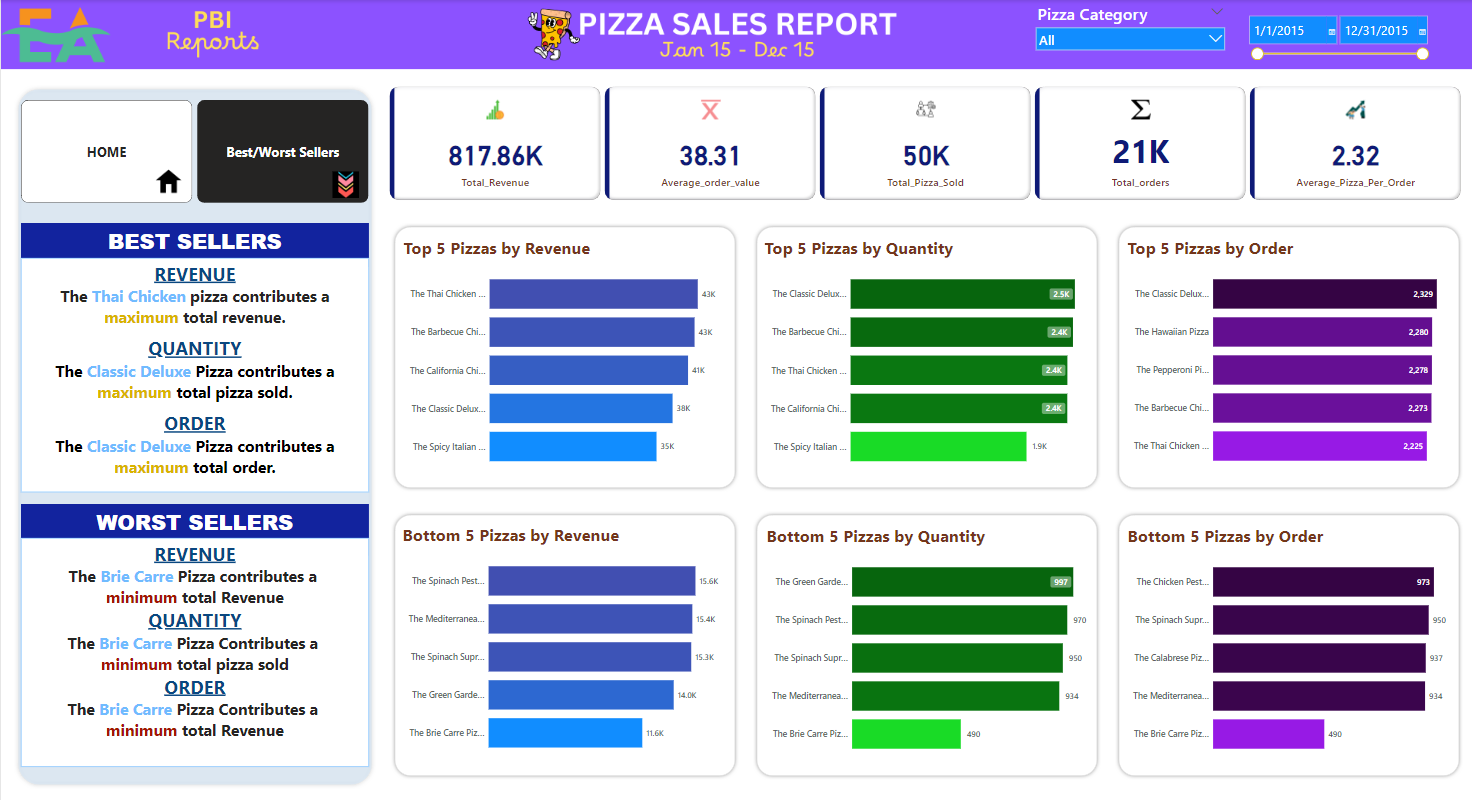

The dashboard page shown, as its layout file describes it:
{"tool":"powerbi","page":{"name":"Best/Worst Sellers","canvas":[3000,1650],"ordinal":1},"visuals":[{"type":"shape","box":[26.4,172.7,735.6,1430.5],"z":0},{"type":"textbox","box":[41,453.6,706.7,88.9],"z":1},{"type":"textbox","box":[41,1023.6,706.7,104.9],"z":2},{"type":"textbox","box":[41,1094.2,706.7,465],"z":3},{"type":"textbox","box":[41,524.3,706.7,476.4],"z":4},{"type":"cardVisual","fields":{"Data":["pizza_sales.Total_Revenue","pizza_sales.Average_order_value","pizza_sales.Total_Pizza_Sold","pizza_sales.Total_orders","pizza_sales.Average_Pizza_Per_Order"]},"box":[784.4,170.7,2190.5,241.8],"z":5},{"type":"slicer","fields":{"Values":["pizza_sales.pizza_category"]},"box":[2093,0,404.4,132.1],"z":6},{"type":"slicer","fields":{"Values":["pizza_sales.order_date"]},"box":[2523.6,22.8,385.3,132.2],"z":7},{"type":"shape","box":[793.1,454,706.9,546],"z":8},{"type":"shape","box":[1528.7,454,706.9,546],"z":9},{"type":"shape","box":[2264.4,454,706.9,546],"z":10},{"type":"shape","box":[791.6,1038.7,706.9,546],"z":11},{"type":"shape","box":[1527.2,1038.7,706.9,546],"z":12},{"type":"shape","box":[2262.9,1038.7,706.9,546],"z":13},{"type":"barChart","title":"Top 5 Pizzas by Revenue","fields":{"Y":["pizza_sales.Total_Revenue"],"Category":["pizza_sales.pizza_name"]},"box":[812.8,479.6,666.5,495.8],"z":14},{"type":"barChart","title":"Bottom 5 Pizzas by Revenue","fields":{"Y":["pizza_sales.Total_Revenue"],"Category":["pizza_sales.pizza_name"]},"box":[810.3,1063.2,666.7,494.3],"z":15},{"type":"barChart","title":"Top 5 Pizzas by Quantity","fields":{"Category":["pizza_sales.pizza_name"],"Y":["pizza_sales.Total_Pizza_Sold"]},"box":[1546.4,479.6,666.5,495.8],"z":16},{"type":"barChart","title":"Bottom 5 Pizzas by Quantity","fields":{"Category":["pizza_sales.pizza_name"],"Y":["pizza_sales.Total_Pizza_Sold"]},"box":[1550.2,1064.6,665.7,494.7],"z":17},{"type":"barChart","title":"Top 5 Pizzas by Order","fields":{"Category":["pizza_sales.pizza_name"],"Y":["pizza_sales.Total_orders"]},"box":[2284.2,478.7,665.7,494.7],"z":18},{"type":"barChart","title":"Bottom 5 Pizzas by Order","fields":{"Category":["pizza_sales.pizza_name"],"Y":["pizza_sales.Total_Pizza_Sold"]},"box":[2284.2,1064.6,665.7,494.7],"z":19},{"type":"pageNavigator","box":[41,202.9,706.7,209.7],"z":20},{"type":"image","box":[305.5,337.4,72.9,61.6],"z":21},{"type":"image","box":[667.9,337.4,63.8,75.2],"z":22}]}

Visuals, with their boxes in screenshot pixels (x1, y1, x2, y2), scaled from the page's 3000x1650 canvas onto the 1472x800 screenshot:
shape: 13/84/374/777
textbox: 20/220/367/263
textbox: 20/496/367/547
textbox: 20/531/367/756
textbox: 20/254/367/485
cardVisual - pizza_sales.Total_Revenue x pizza_sales.Average_order_value: 385/83/1460/200
slicer - pizza_sales.pizza_category: 1027/0/1225/64
slicer - pizza_sales.order_date: 1238/11/1427/75
shape: 389/220/736/485
shape: 750/220/1097/485
shape: 1111/220/1458/485
shape: 388/504/735/768
shape: 749/504/1096/768
shape: 1110/504/1457/768
"Top 5 Pizzas by Revenue" barChart: 399/233/726/473
"Bottom 5 Pizzas by Revenue" barChart: 398/515/725/755
"Top 5 Pizzas by Quantity" barChart: 759/233/1086/473
"Bottom 5 Pizzas by Quantity" barChart: 761/516/1087/756
"Top 5 Pizzas by Order" barChart: 1121/232/1447/472
"Bottom 5 Pizzas by Order" barChart: 1121/516/1447/756
pageNavigator: 20/98/367/200
image: 150/164/186/193
image: 328/164/359/200
